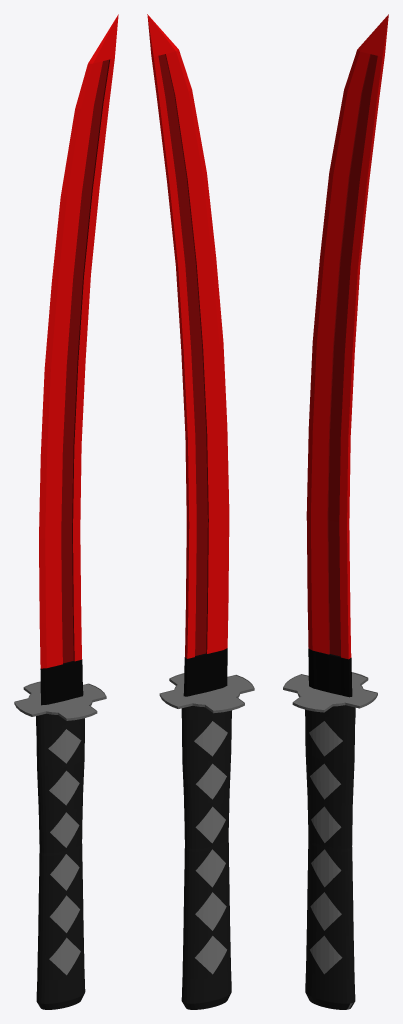
Rendered from Anger_Katana.fbx.
3 views of the same model, side by side, from view 1: azimuth 30°, elevation 25°; view 2: azimuth 210°, elevation 25°; view 3: azimuth 330°, elevation 25° (orthographic). The views are drawn at different scales.
Visible parts, largest first — view 1: Guard; view 2: Guard; view 3: Guard.
Boxes of the visible parts, bbox=[...] form: Guard: bbox=[14, 14, 118, 1009]; Guard: bbox=[147, 14, 254, 1009]; Guard: bbox=[283, 14, 388, 1009].
Size of the model in its own units: 20.46 by 195 by 16.87.
